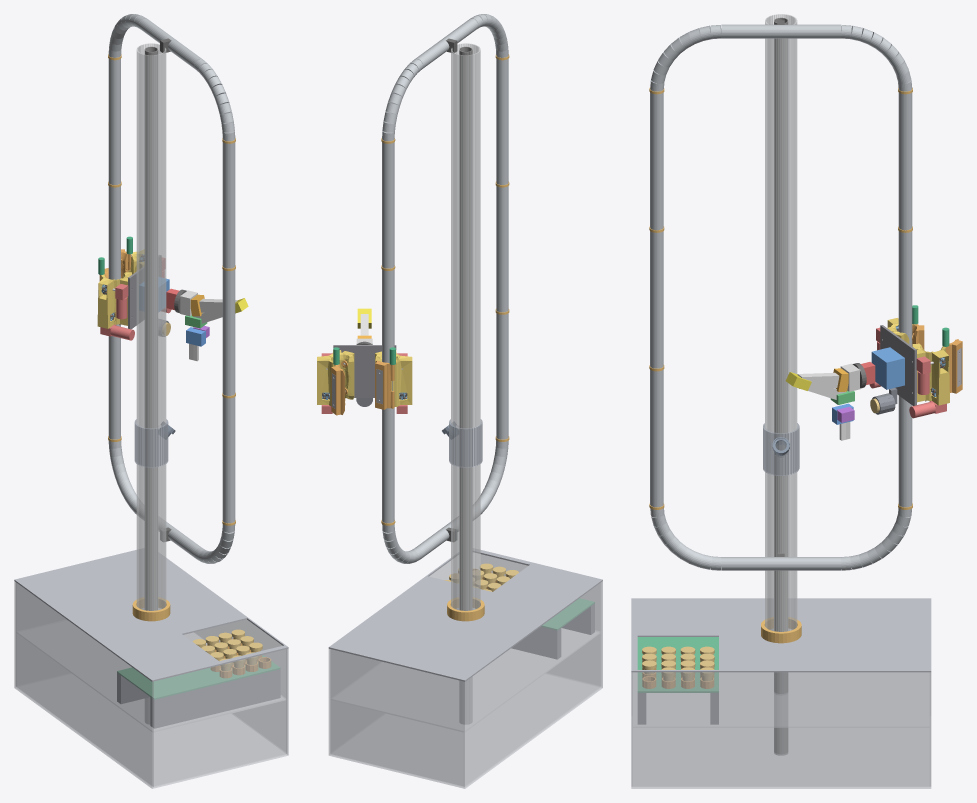
File: transplant-seedling-step2-drive-v11.glb
The picture shows the model from 3 angles, left to right: view 1: azimuth 30°, elevation 25°; view 2: azimuth 150°, elevation 25°; view 3: azimuth 270°, elevation 25°; orthographic projection. The views are drawn at different scales.
Bounding box in the file's own units: 0.501 × 1.9 × 0.7736.
